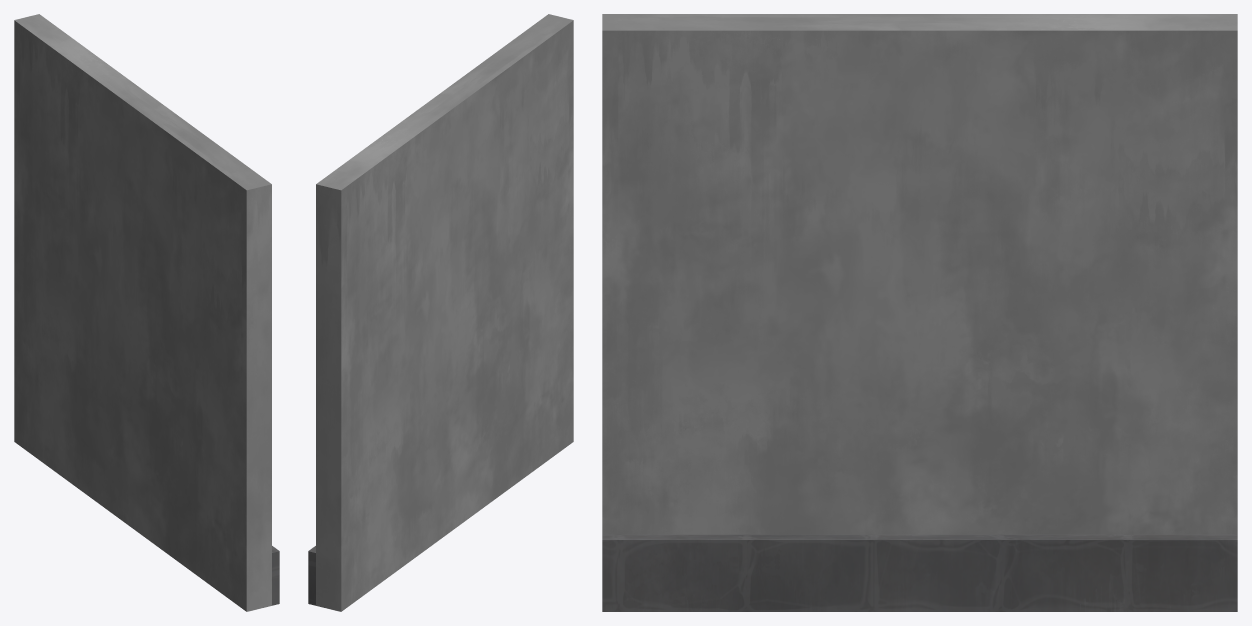
Rendered from Base_Wall_B.fbx.
The picture shows the model from 3 angles, left to right: view 1: azimuth 30°, elevation 25°; view 2: azimuth 150°, elevation 25°; view 3: azimuth 270°, elevation 25°; orthographic projection. The views are drawn at different scales.
Parts seen in each view (by area): view 1: Cube.073; view 2: Cube.073; view 3: Cube.073.
Boxes of the visible parts, left/top/right/bottom form: Cube.073: left=14, top=14, right=279, bottom=611; Cube.073: left=308, top=14, right=573, bottom=611; Cube.073: left=602, top=14, right=1237, bottom=611.
Size of the model in its own units: 32.84 by 400 by 400.
